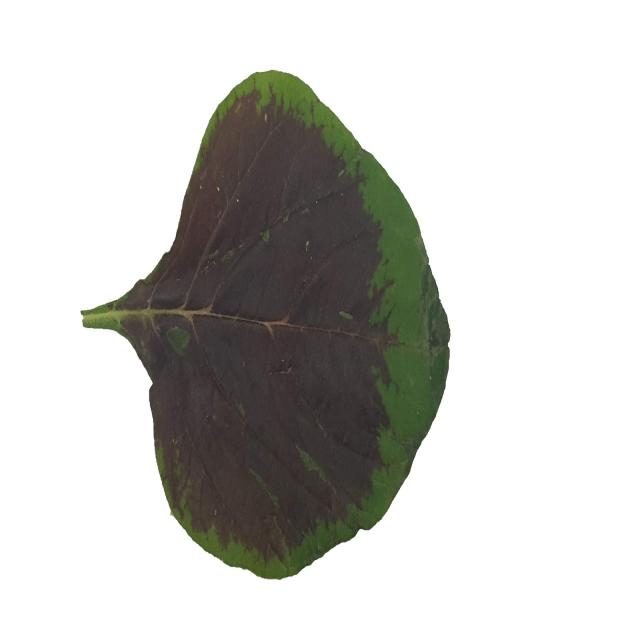Medicinal-Arive Dantu: (78, 70, 452, 578)
